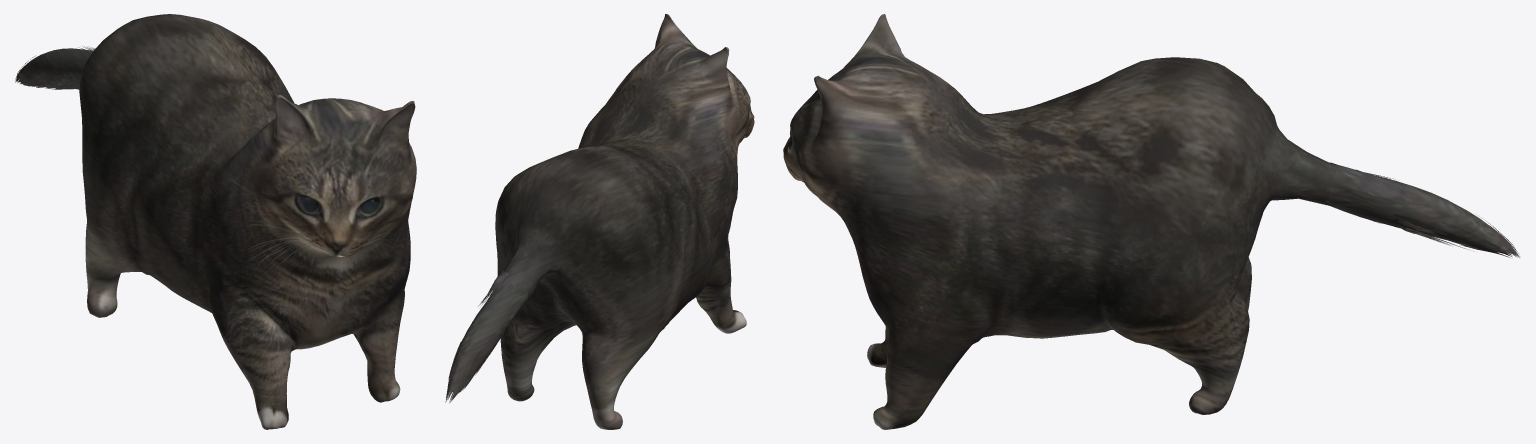
Rendered from spinning-cat.glb.
3 views of the same model, side by side, from view 1: azimuth 30°, elevation 25°; view 2: azimuth 150°, elevation 25°; view 3: azimuth 270°, elevation 25° (orthographic). The views are drawn at different scales.
Parts seen in each view (by area): view 1: Muchkin1.002; view 2: Muchkin1.002; view 3: Muchkin1.002.
Part boxes in pixels (box(x1,y1,x2,y2)): Muchkin1.002: box(15, 14, 416, 429); Muchkin1.002: box(445, 14, 754, 429); Muchkin1.002: box(783, 14, 1519, 429).
Bounding box in the file's own units: 0.2392 × 0.3866 × 0.7242.
1 material, 1 textured.
